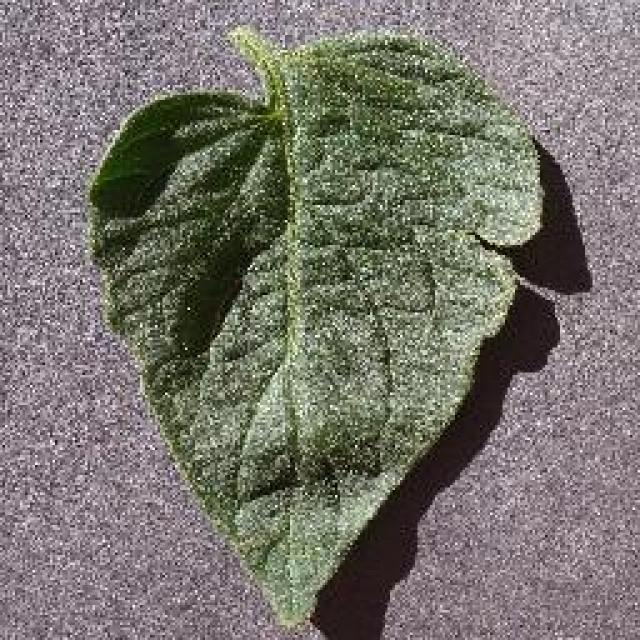Tomato___healthy: (82, 27, 549, 627)
